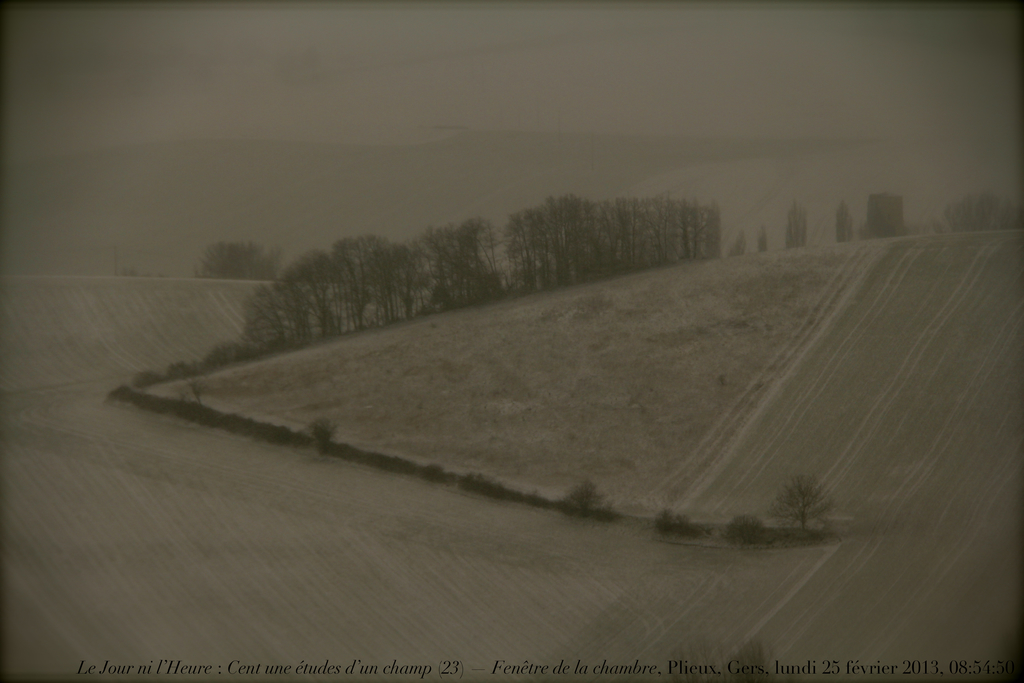Tree: (131, 181, 741, 381), (764, 478, 852, 549), (192, 237, 282, 278), (938, 192, 1023, 235), (558, 476, 632, 518), (309, 415, 344, 467), (865, 194, 904, 238), (730, 508, 771, 542), (823, 201, 857, 240), (789, 204, 807, 251), (183, 367, 199, 404), (757, 221, 771, 254)
